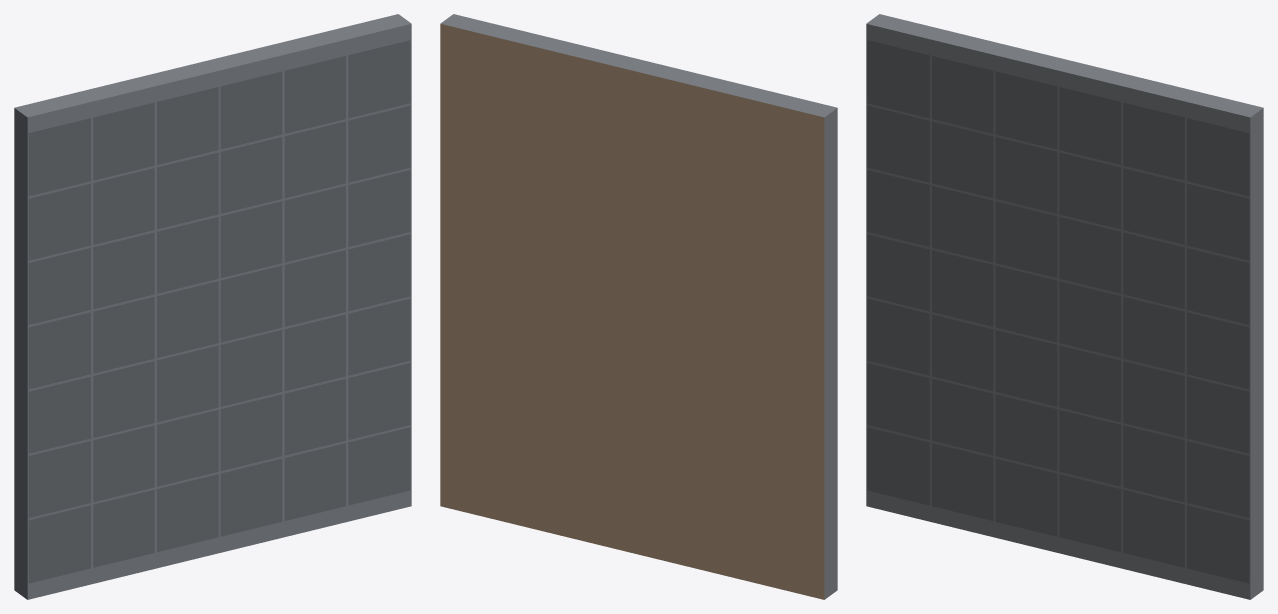
Rendered from Wall2_C7_01.fbx.
3 renders of one model, left to right at view 1: azimuth 30°, elevation 25°; view 2: azimuth 150°, elevation 25°; view 3: azimuth 330°, elevation 25°, orthographic.
Parts seen in each view (by area): view 1: Wall2_C7_01; view 2: Wall2_C7_01; view 3: Wall2_C7_01.
Part boxes in pixels (left/top/right/bottom): Wall2_C7_01: left=14, top=14, right=411, bottom=599; Wall2_C7_01: left=440, top=14, right=837, bottom=599; Wall2_C7_01: left=866, top=14, right=1263, bottom=599.
Size of the model in its own units: 250 by 300 by 15.
